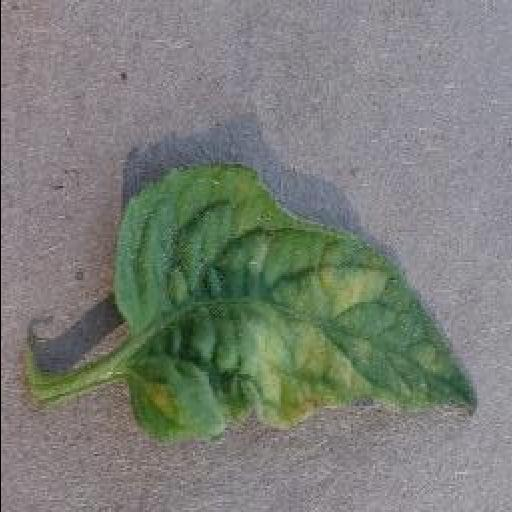disease_tomato: (109, 162, 479, 446)
